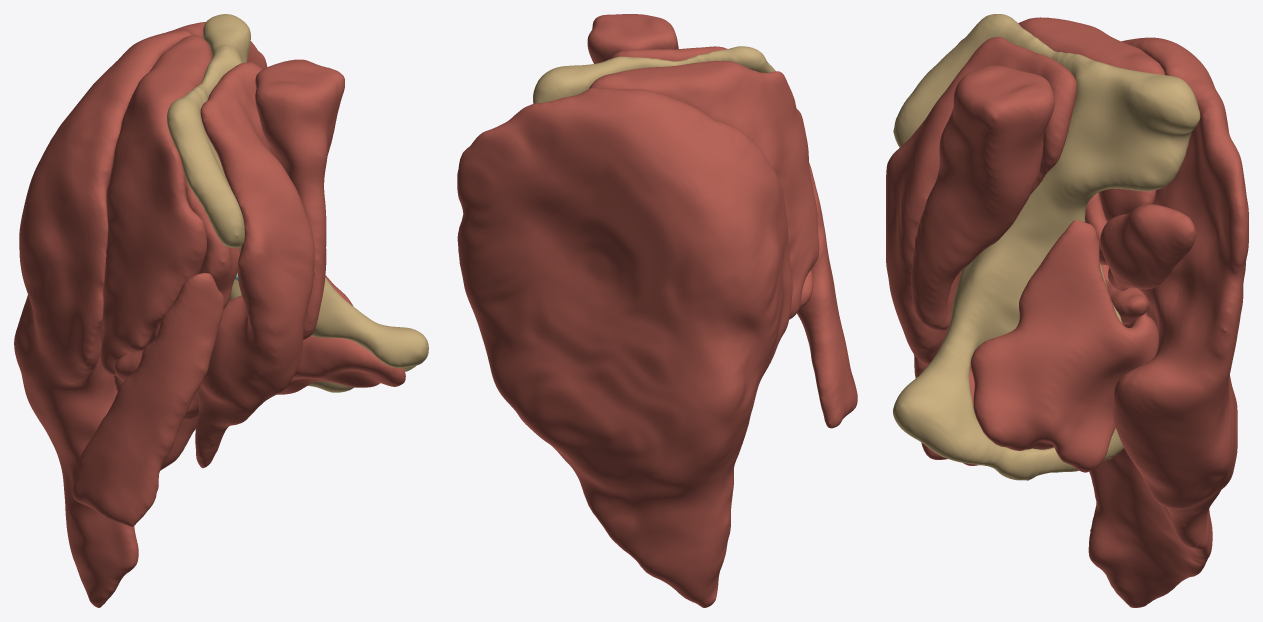
The model's file is hip-thigh.glb.
The picture shows the model from 3 angles, left to right: view 1: azimuth 30°, elevation 25°; view 2: azimuth 150°, elevation 25°; view 3: azimuth 270°, elevation 25°; orthographic projection. The views are drawn at different scales.
Visible parts, largest first — view 1: gluteus-maximus, iliacus, gluteus-medius, tensor-fasciae-latae, pelvis-group, psoas-major, obturator-externus, gluteus-minimus; view 2: gluteus-maximus, gluteus-medius, tensor-fasciae-latae, pelvis-group, psoas-major, iliacus; view 3: gluteus-maximus, pelvis-group, obturator-internus, psoas-major, iliacus, piriformis, gluteus-medius, superior-gemellus, gluteus-minimus, obturator-externus.
Boxes of the visible parts, x1=… form: gluteus-maximus: x1=14, y1=22, x2=267, y2=607; iliacus: x1=195, y1=62, x2=314, y2=468; gluteus-medius: x1=99, y1=35, x2=212, y2=375; tensor-fasciae-latae: x1=72, y1=273, x2=224, y2=526; pelvis-group: x1=167, y1=14, x2=428, y2=392; psoas-major: x1=255, y1=59, x2=344, y2=339; obturator-externus: x1=277, y1=336, x2=405, y2=394; gluteus-minimus: x1=114, y1=176, x2=240, y2=380; gluteus-maximus: x1=457, y1=88, x2=792, y2=607; gluteus-medius: x1=589, y1=60, x2=819, y2=319; tensor-fasciae-latae: x1=797, y1=162, x2=857, y2=428; pelvis-group: x1=533, y1=46, x2=775, y2=103; psoas-major: x1=587, y1=14, x2=678, y2=63; iliacus: x1=610, y1=46, x2=726, y2=61; gluteus-maximus: x1=1088, y1=37, x2=1248, y2=607; pelvis-group: x1=893, y1=14, x2=1200, y2=480; obturator-internus: x1=970, y1=220, x2=1158, y2=472; psoas-major: x1=911, y1=65, x2=1054, y2=331; iliacus: x1=886, y1=37, x2=1076, y2=364; piriformis: x1=1100, y1=204, x2=1196, y2=291; gluteus-medius: x1=958, y1=17, x2=1165, y2=221; superior-gemellus: x1=1105, y1=280, x2=1149, y2=324; gluteus-minimus: x1=1085, y1=192, x2=1107, y2=264; obturator-externus: x1=921, y1=365, x2=1053, y2=465.
Bounding box in the file's own units: 1.66 × 2.74 × 1.49.
